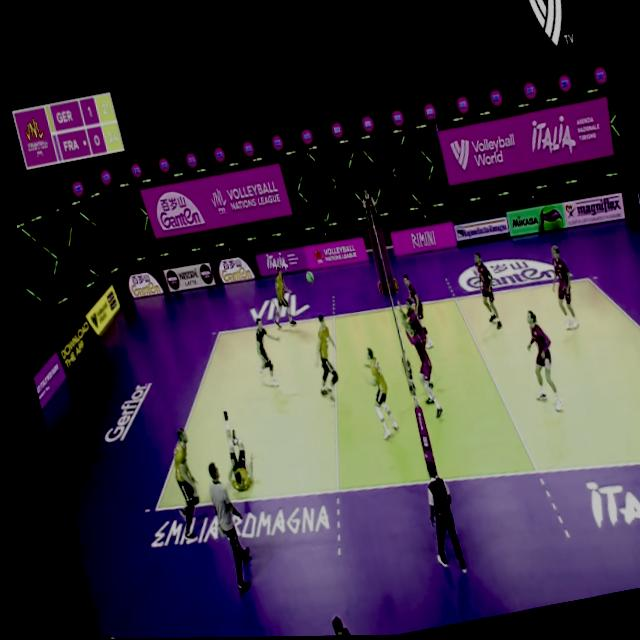player: (510, 308, 567, 421), (154, 421, 201, 541), (391, 312, 440, 426), (349, 343, 399, 440), (296, 310, 345, 404), (206, 407, 254, 496), (538, 242, 578, 335), (392, 270, 432, 350), (241, 315, 281, 391), (464, 248, 499, 329), (391, 294, 428, 370), (259, 264, 297, 334)
